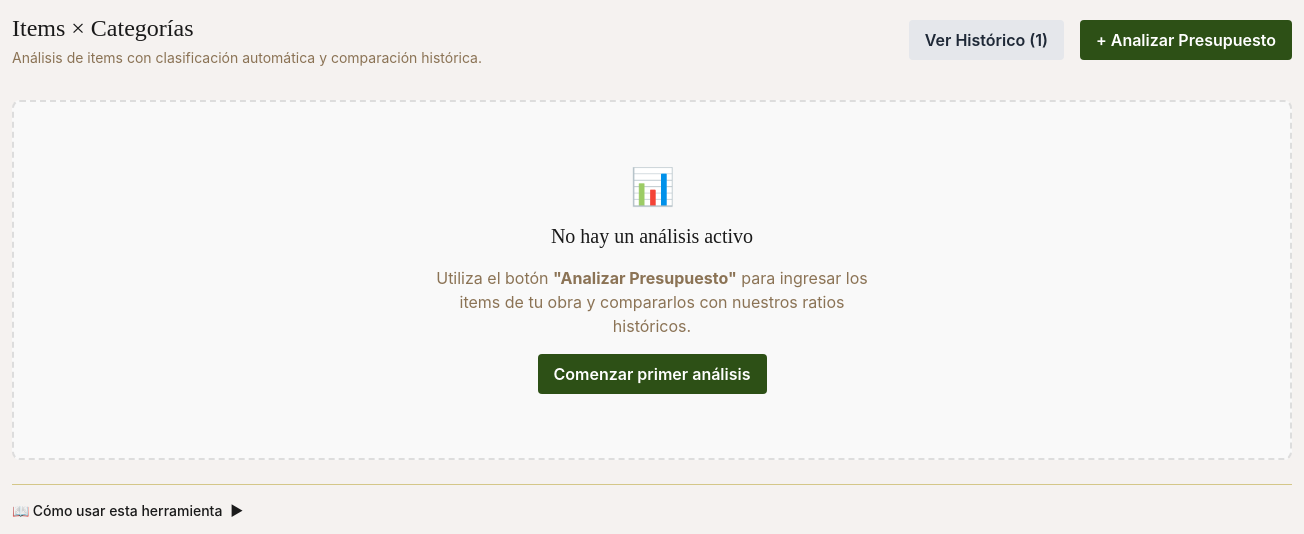
ItemsAnalisisTab › cambia vista a histórico al click en botón
The image size is (1304, 534).
Click the button "Ver Histórico (1)": (986, 40) [909, 20, 1064, 60]
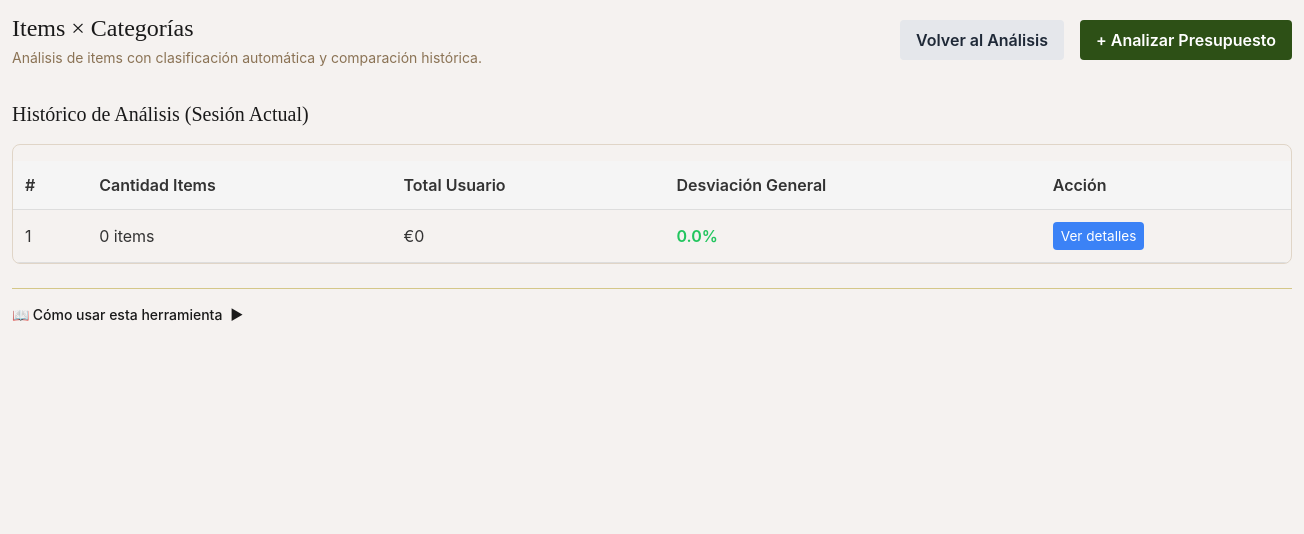
expect the heading "Histórico de Análisis (Sesión Actual)" is shown: met, box [12, 103, 309, 125]
